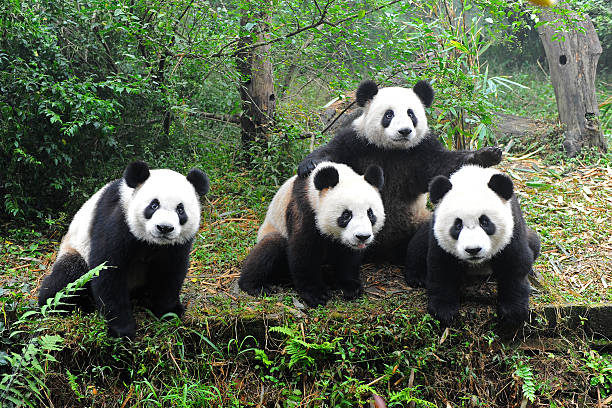panda: (294, 156, 408, 265), (112, 151, 219, 263), (416, 165, 522, 274), (346, 72, 439, 158)
